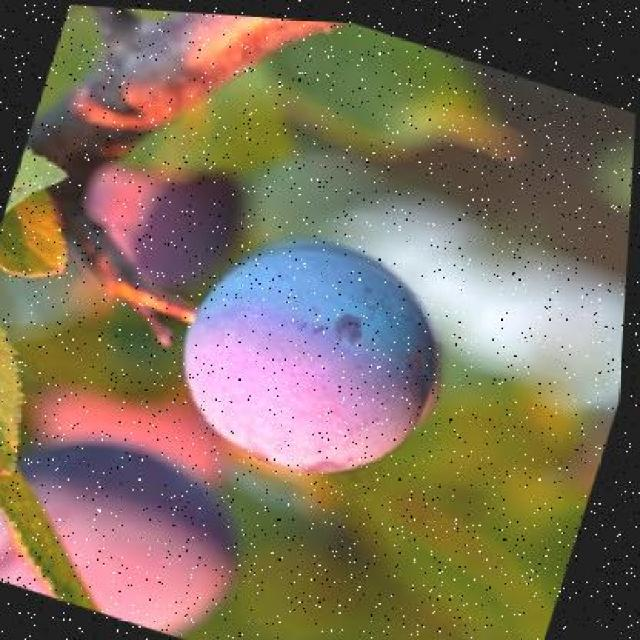plum: (157, 199, 478, 504)
